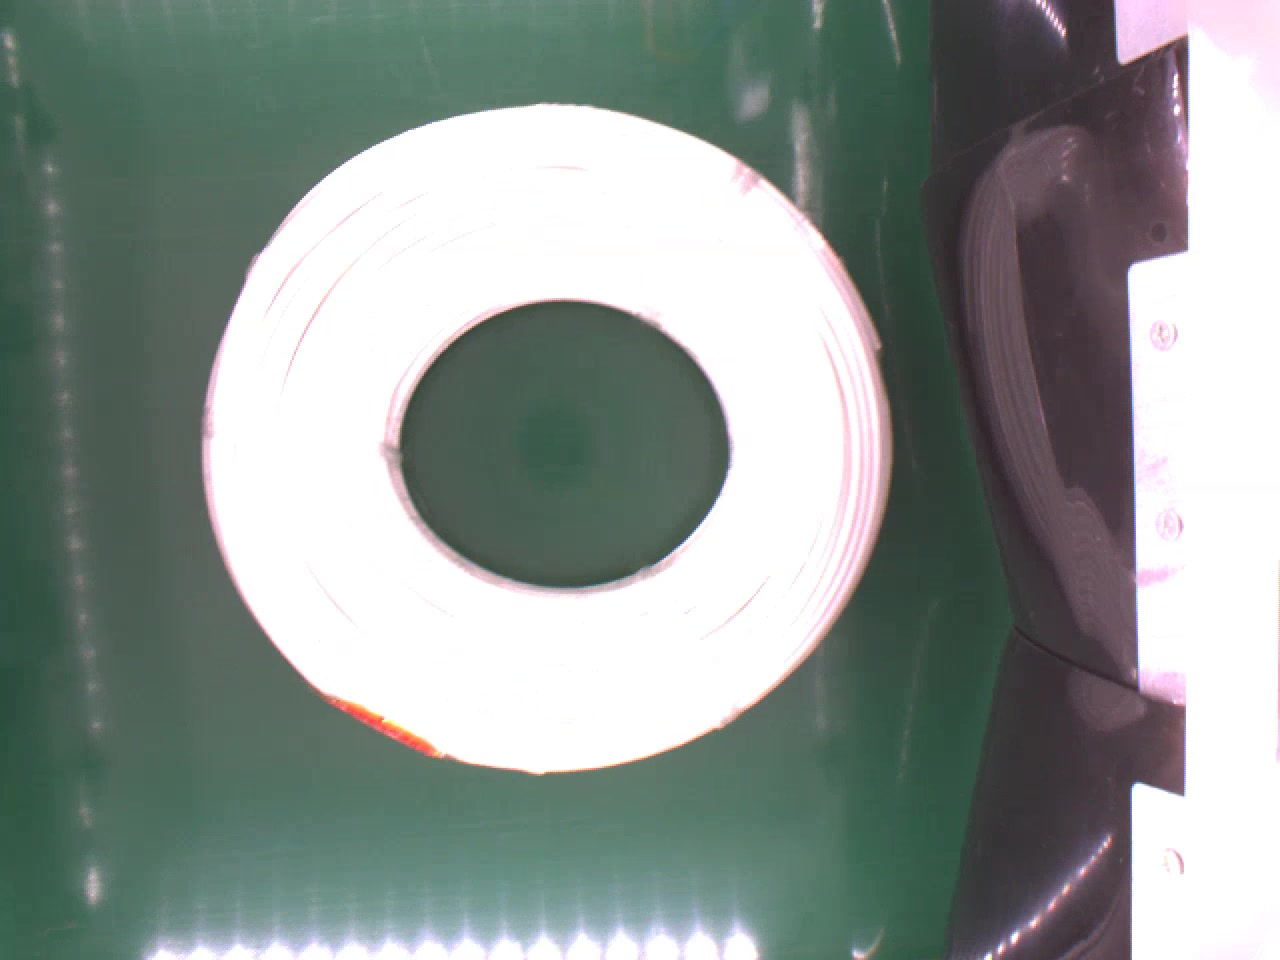white: (201, 95, 908, 773)
